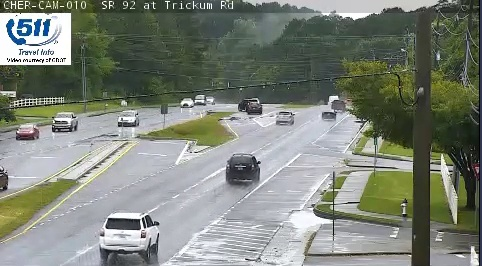car: (100, 213, 160, 249), (224, 153, 259, 179), (276, 110, 294, 123)
